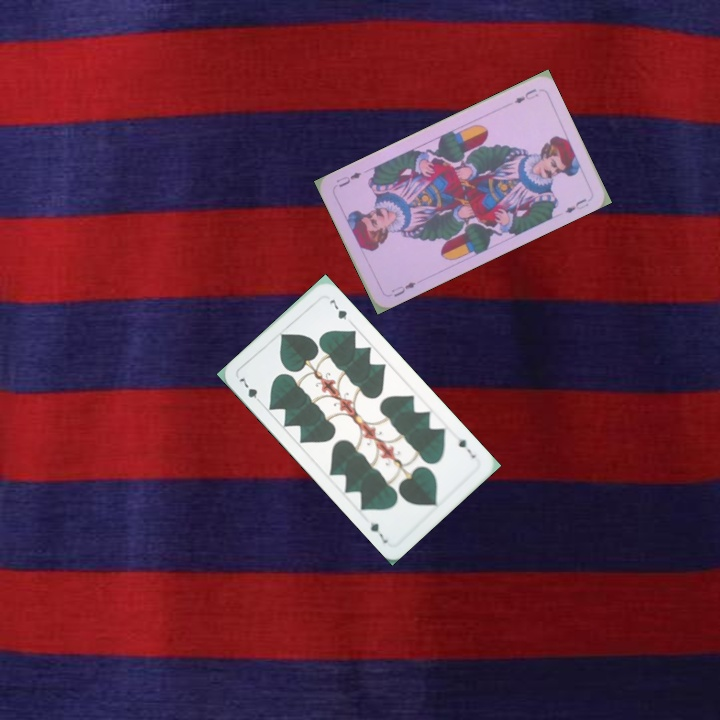EU: (387, 278, 418, 300), (510, 84, 541, 106)
G7: (235, 374, 265, 407), (452, 431, 479, 461)
